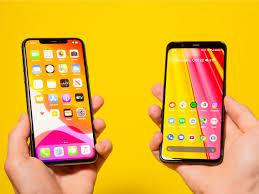Hand: (146, 88, 259, 194), (4, 96, 117, 194)
Smartphone: (14, 36, 95, 166), (159, 40, 229, 163)
